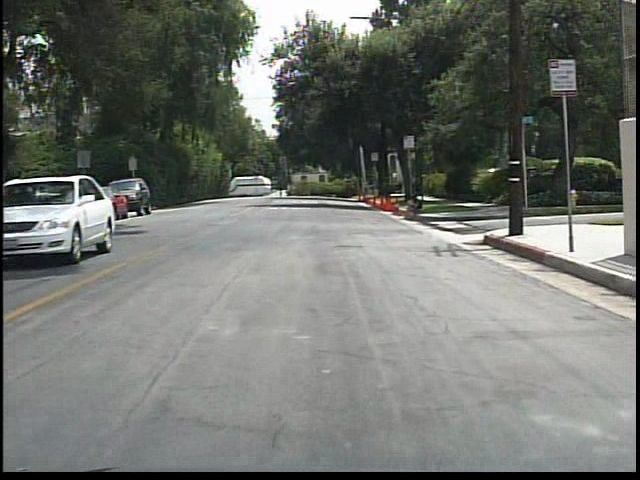person: (401, 190, 429, 221)
